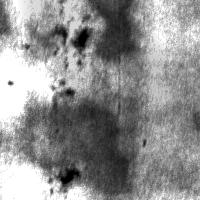patches: (55, 36, 200, 182), (14, 101, 132, 193), (19, 0, 155, 73), (89, 1, 137, 59), (57, 23, 92, 53), (50, 165, 82, 192)
